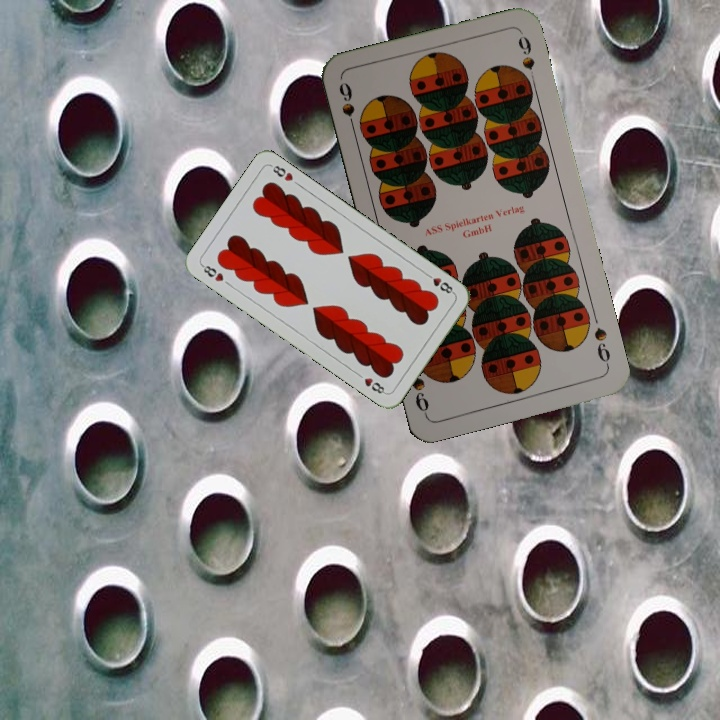H8: (421, 269, 457, 297), (197, 261, 226, 284)
S9: (335, 78, 359, 136), (590, 323, 613, 370)
